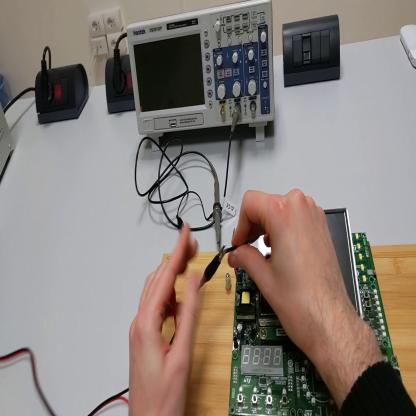hand: (228, 187, 355, 357), (128, 218, 202, 416)
low voltage board: (230, 217, 402, 415)
oscilloscope: (127, 1, 277, 144)
oscilloscope probe tip: (210, 159, 225, 251)
power supply: (2, 100, 16, 185)
socket: (35, 54, 90, 125), (106, 53, 136, 115)
working area: (162, 237, 416, 416)
